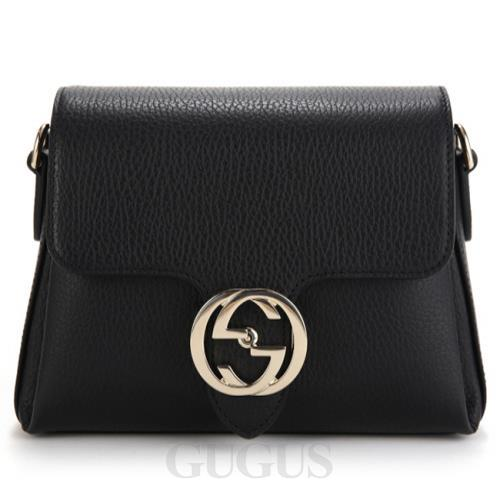Gucci: (15, 74, 485, 451), (179, 288, 319, 394)
